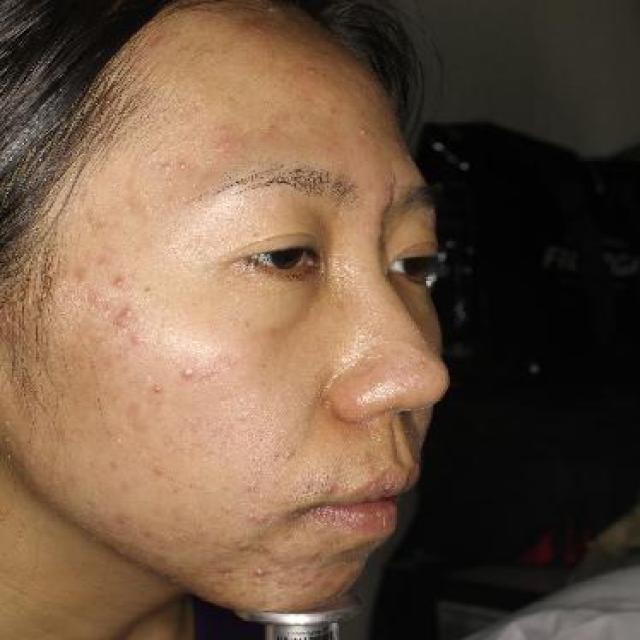pustules: (173, 360, 205, 389)
whiteheads: (298, 59, 327, 83), (248, 565, 274, 583), (356, 122, 376, 142), (154, 158, 171, 178)
